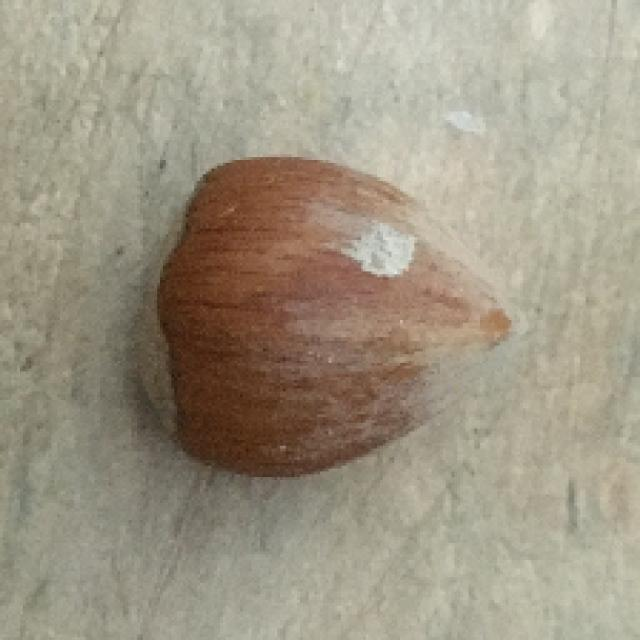QualityHazelnut: (130, 153, 538, 476)
